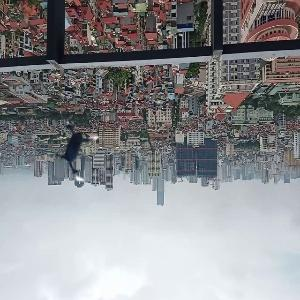drone: (40, 111, 116, 187)
